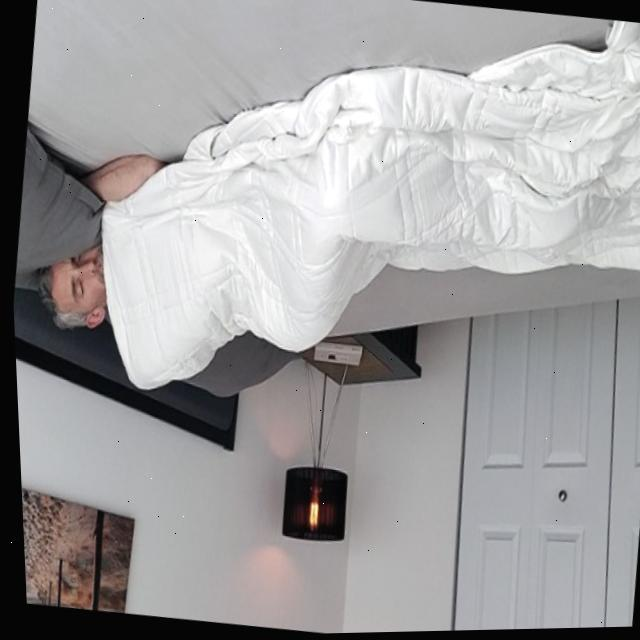sleeping-person: (6, 23, 640, 462)
